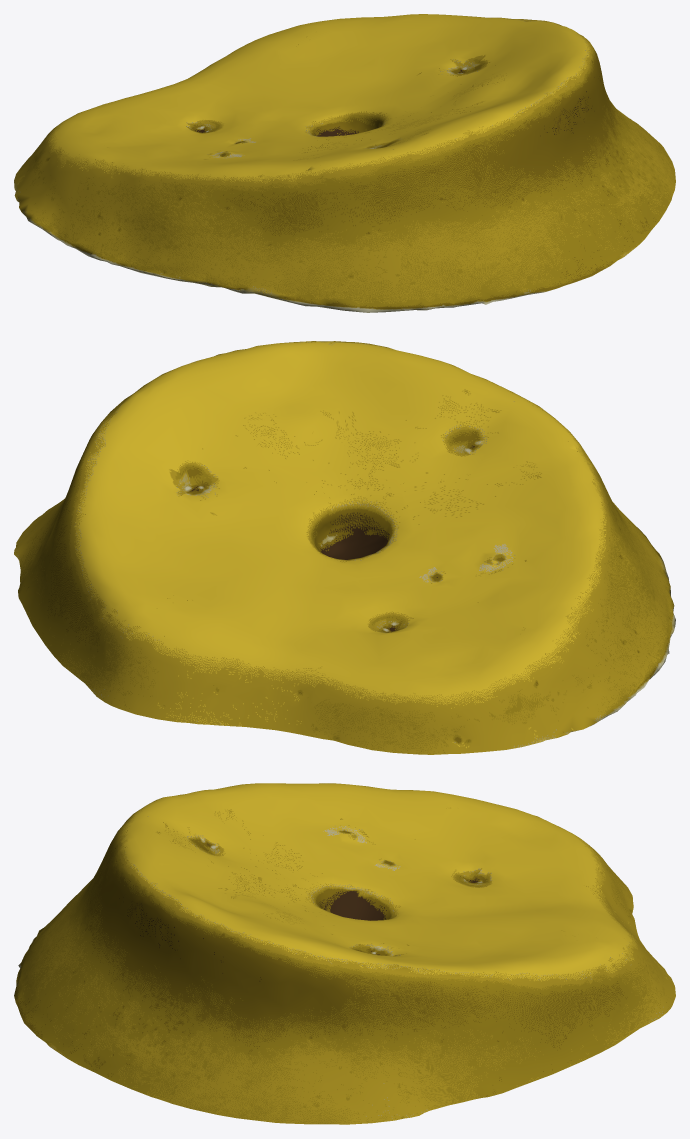
File: setrsoft-12-jug.glb
3 renders of one model, top to bottom at view 1: azimuth 30°, elevation 25°; view 2: azimuth 150°, elevation 25°; view 3: azimuth 270°, elevation 25°, orthographic. The views are drawn at different scales.
Parts seen in each view (by area): view 1: 0000000045; view 2: 0000000045; view 3: 0000000045.
Boxes of the visible parts, bbox=[...] form: 0000000045: bbox=[14, 14, 675, 312]; 0000000045: bbox=[14, 341, 675, 754]; 0000000045: bbox=[14, 783, 675, 1124].
Size of the model in its own units: 0.2636 by 0.0614 by 0.2469.
Materials: 1 (1 with a texture image).
